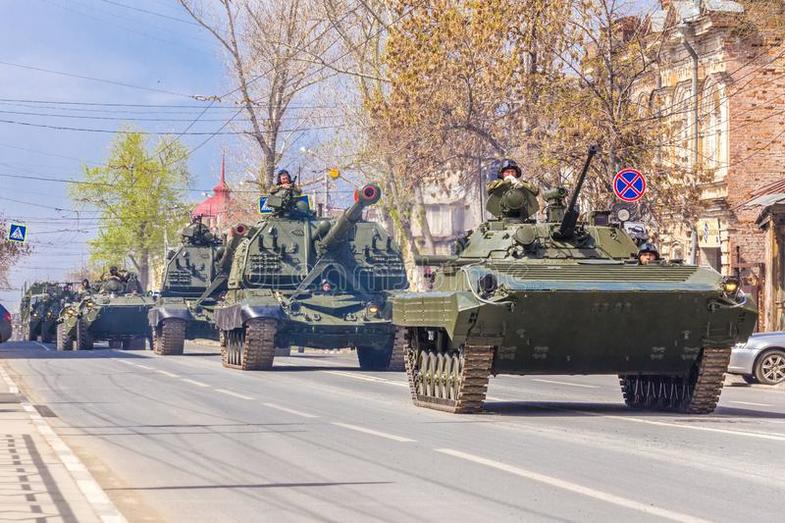bmp: (396, 180, 760, 414)
